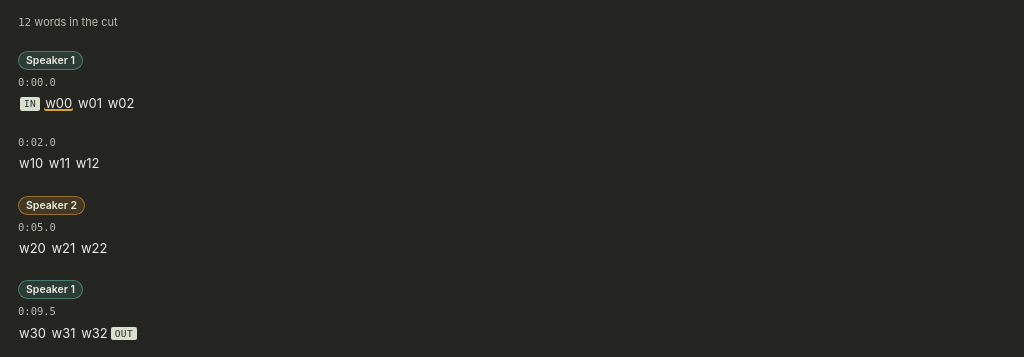
Scenario: the Inspector’s transcript › names a voice for every sentence it says, and keeps the name
Click the 1st button "Speaker 1" at (50, 61), box [18, 51, 83, 70]
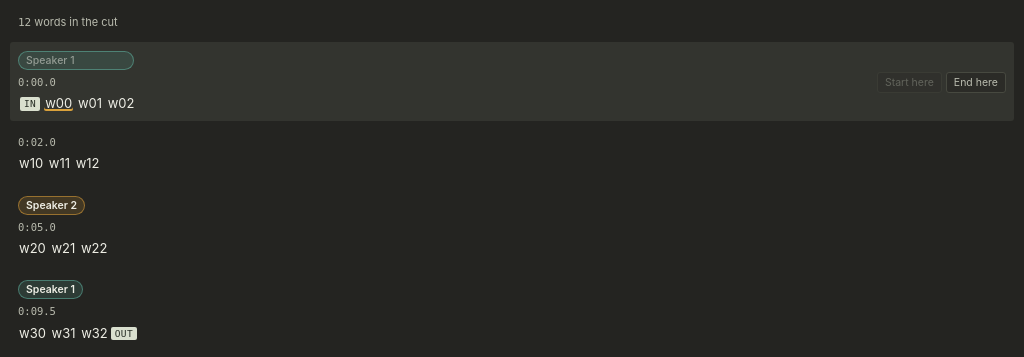
Type "Andrew" into the field named "Name Speaker 1" at (76, 61), box [18, 51, 134, 70]
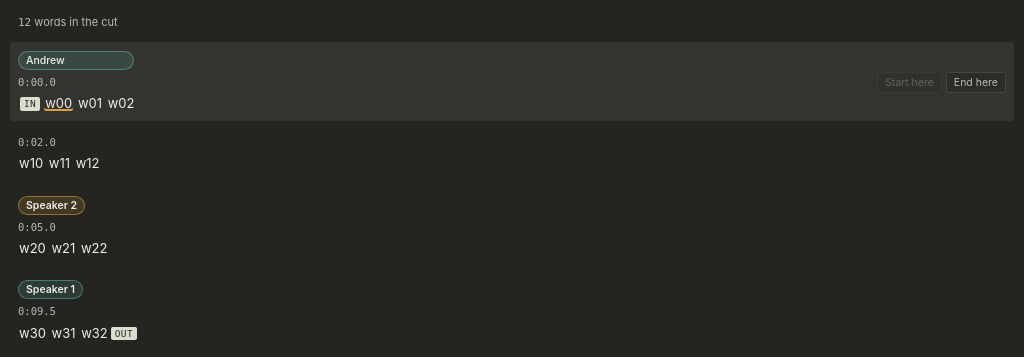
Press Enter in the field named "Name Speaker 1", box [18, 51, 134, 70]
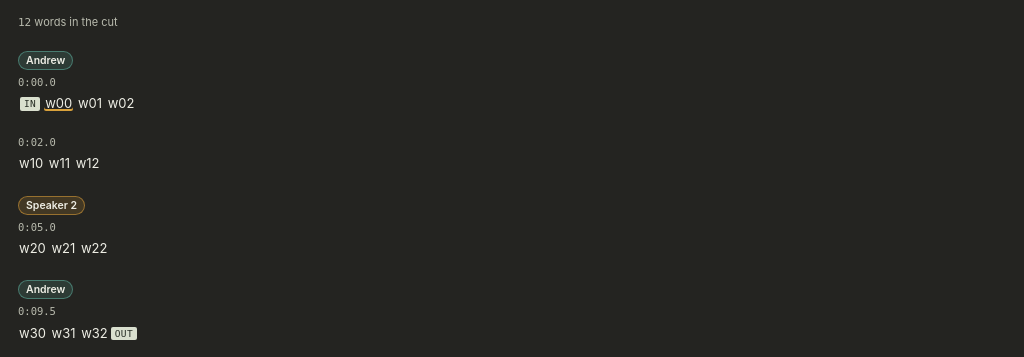
Now the number of buttons "Andrew" is 2
# Emptied, it is a number again.
Click the 1st button "Andrew" at (46, 61), box [18, 51, 73, 70]
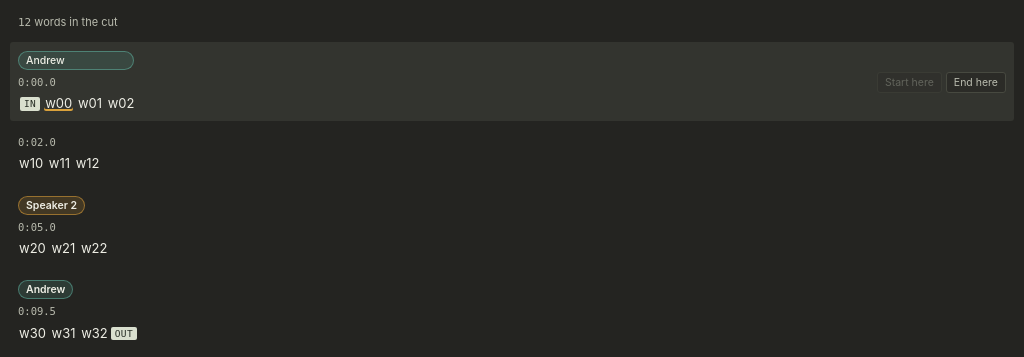
Clear the field named "Name Andrew" at (76, 61), box [18, 51, 134, 70]
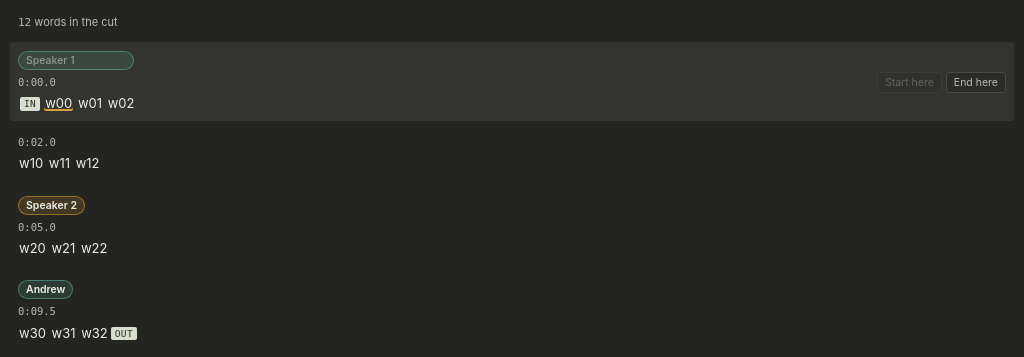
Leave the field named "Name Andrew", box [18, 51, 134, 70]
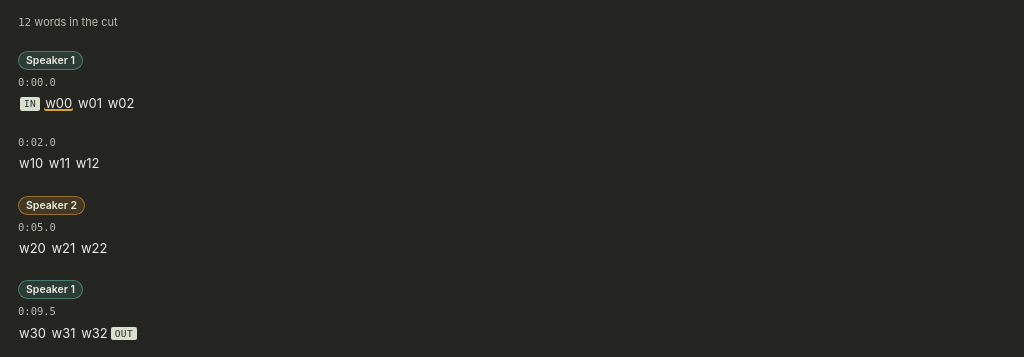
Now the number of buttons "Speaker 1" is 2, box [18, 51, 83, 70]; [18, 280, 83, 299]
